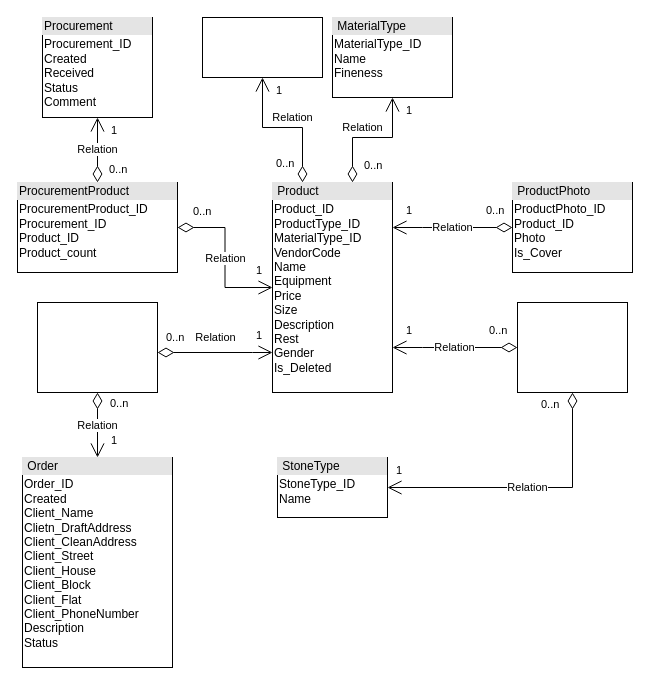
Image size: 650x685. Some labels were removed from this diagram. Each missing label, with the centre of its shape:
Insert Insert_ID StoneType_ID Product_ID Weight: the point at 572,347
OrderProduct OrderProduct_ID Order_ID Product_ID Product_count: the point at 97,347
ProductType ProductType_ID Name: the point at 262,47
